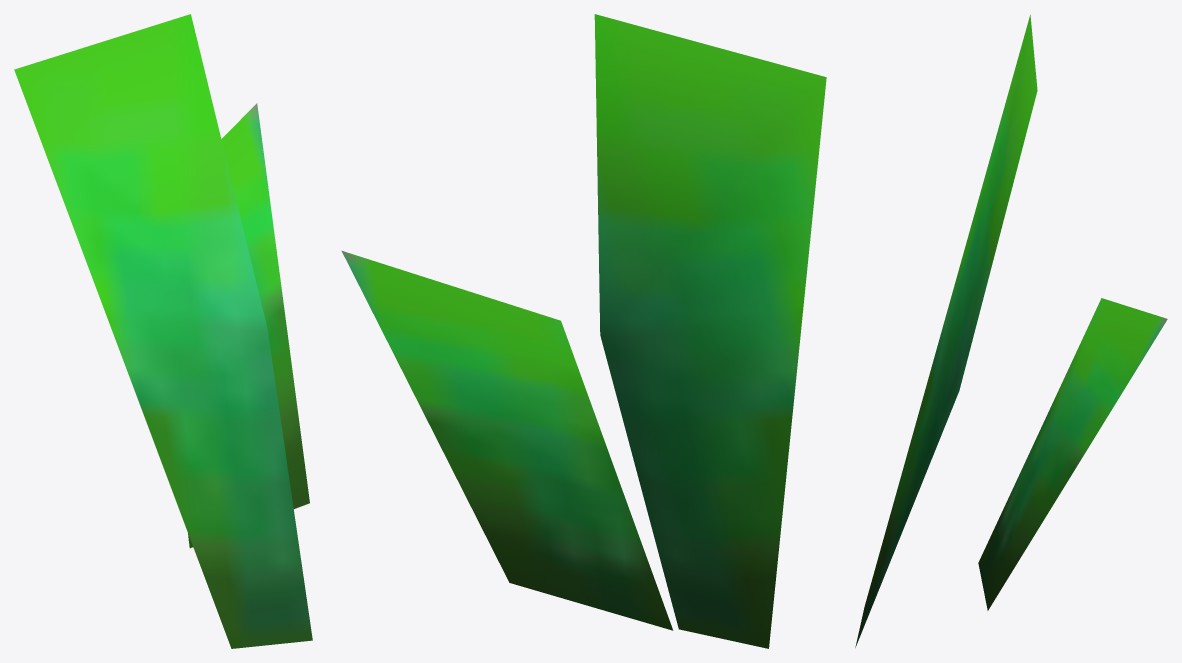
File: fg_grassA.dae
3 views of the same model, side by side, from view 1: azimuth 30°, elevation 25°; view 2: azimuth 150°, elevation 25°; view 3: azimuth 270°, elevation 25° (orthographic). The views are drawn at different scales.
Visible parts, largest first — view 1: fg_grassA; view 2: fg_grassA; view 3: fg_grassA.
Part boxes in pixels (x1=…): fg_grassA: x1=14, y1=14, x2=312, y2=648; fg_grassA: x1=341, y1=14, x2=826, y2=648; fg_grassA: x1=855, y1=14, x2=1167, y2=647.
Size of the model in its own units: 11.97 by 20.54 by 10.68.
Materials: 1 (1 with a texture image).
